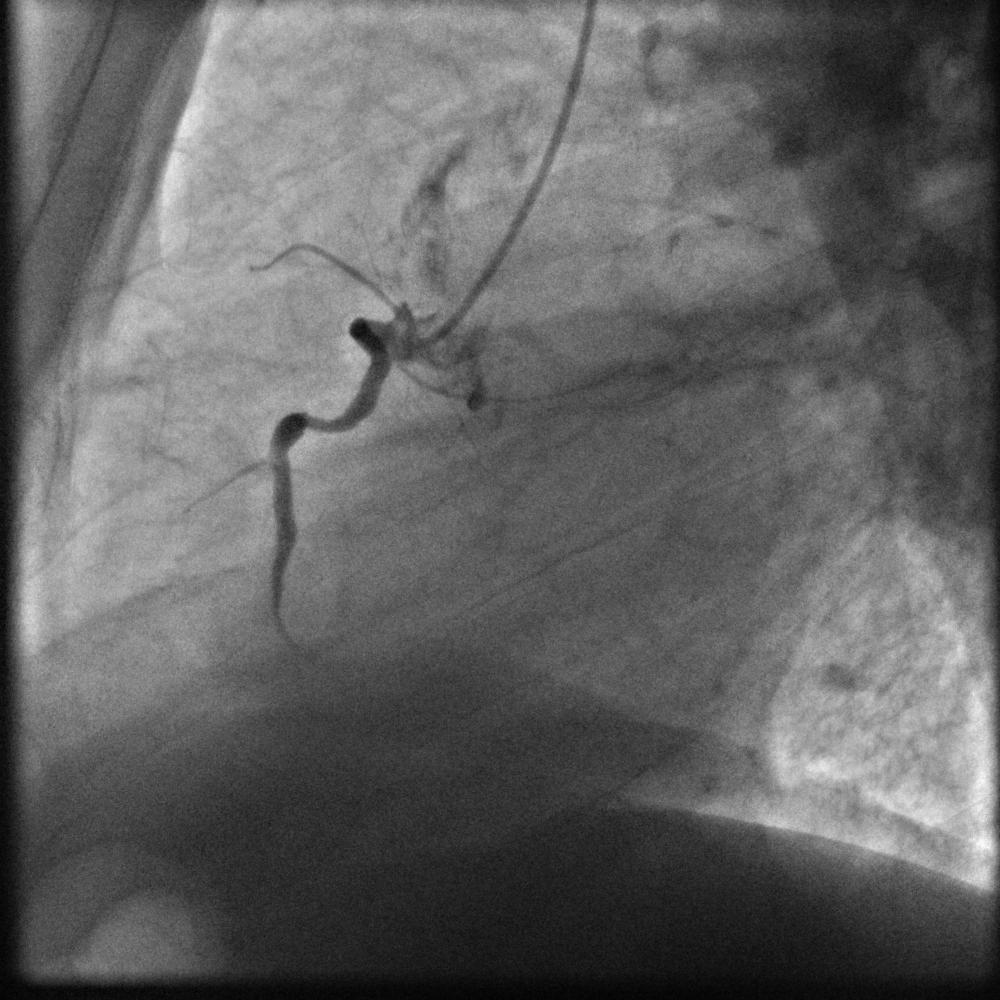Stenosis: (299, 409, 337, 437)
